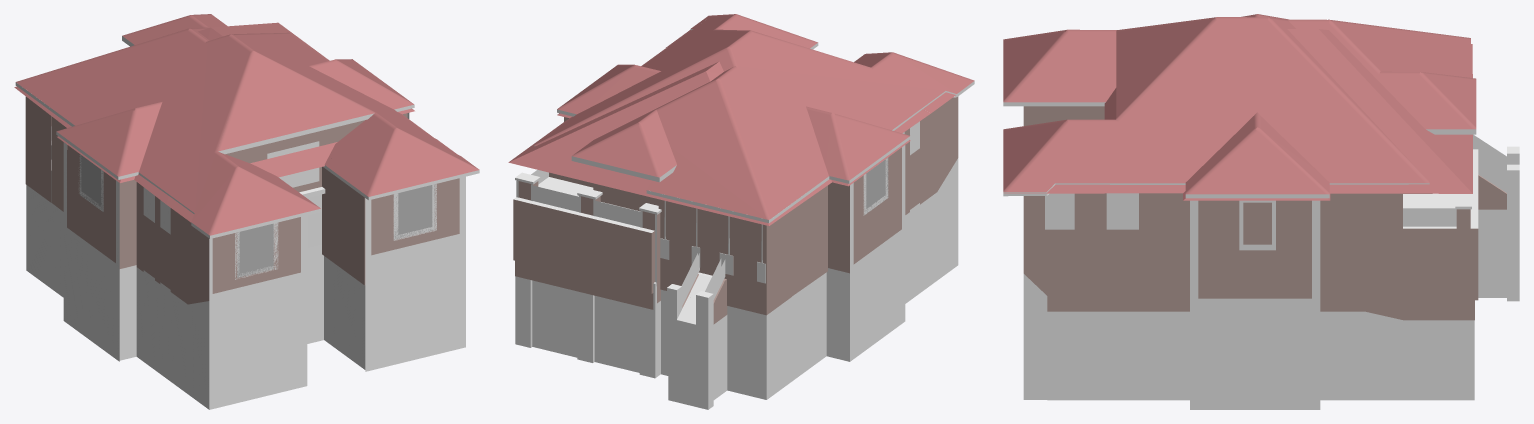
The model's file is house3.dae.
3 views of the same model, side by side, from view 1: azimuth 30°, elevation 25°; view 2: azimuth 150°, elevation 25°; view 3: azimuth 270°, elevation 25° (orthographic). The views are drawn at different scales.
Visible parts, largest first — view 1: house3_a500, house3_a250, house3_a100, Colmesh-1; view 2: house3_a500, house3_a100, Colmesh-1, house3_a250; view 3: house3_a500, house3_a100, house3_a250, Colmesh-1.
Boxes of the visible parts, left/top/right/bottom form: house3_a500: left=15, top=14, right=479, bottom=409; house3_a250: left=67, top=54, right=459, bottom=293; house3_a100: left=14, top=22, right=456, bottom=285; Colmesh-1: left=25, top=96, right=51, bottom=201; house3_a500: left=515, top=14, right=974, bottom=409; house3_a100: left=508, top=30, right=955, bottom=315; Colmesh-1: left=515, top=173, right=791, bottom=328; house3_a250: left=664, top=96, right=955, bottom=328; house3_a500: left=1003, top=14, right=1519, bottom=409; house3_a100: left=1004, top=29, right=1478, bottom=300; house3_a250: left=1047, top=20, right=1519, bottom=311; Colmesh-1: left=1320, top=137, right=1519, bottom=320.
Bounding box in the file's own units: 18.8 × 24.43 × 16.23.
